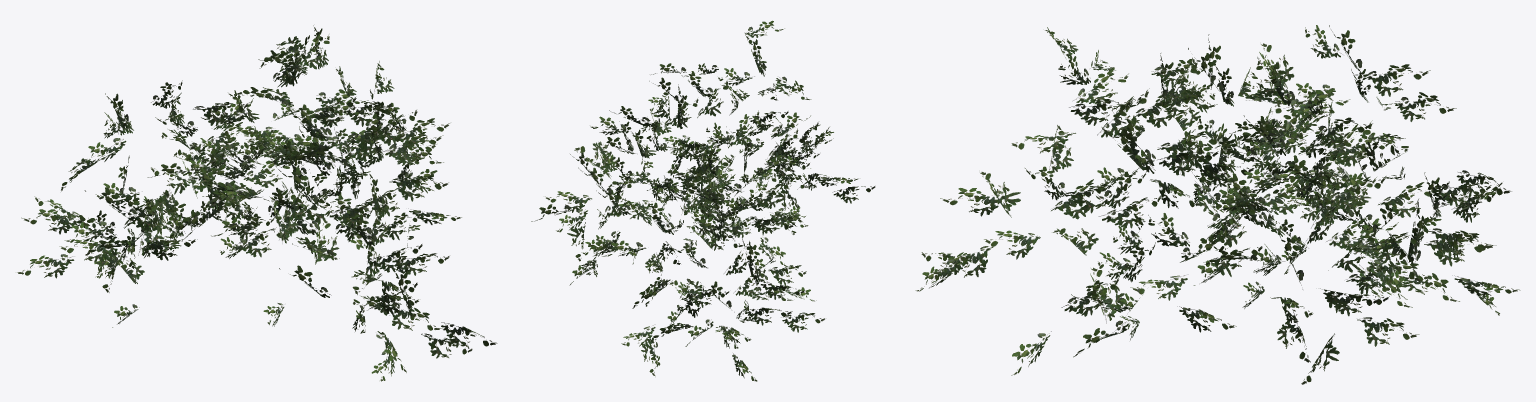
The model's file is MESH_WE17_QuercusAgrifolia_Y_LOD2.fbx.
3 renders of one model, left to right at view 1: azimuth 30°, elevation 25°; view 2: azimuth 150°, elevation 25°; view 3: azimuth 270°, elevation 25°, orthographic. The views are drawn at different scales.
Parts seen in each view (by area): view 1: MI_LOD2_001; view 2: MI_LOD2_001; view 3: MI_LOD2_001.
Boxes of the visible parts, bbox=[...] form: MI_LOD2_001: bbox=[17, 25, 497, 381]; MI_LOD2_001: bbox=[531, 20, 875, 381]; MI_LOD2_001: bbox=[915, 25, 1520, 384].
Size of what is drawn, in the model's own units: 282 by 213 by 362.
